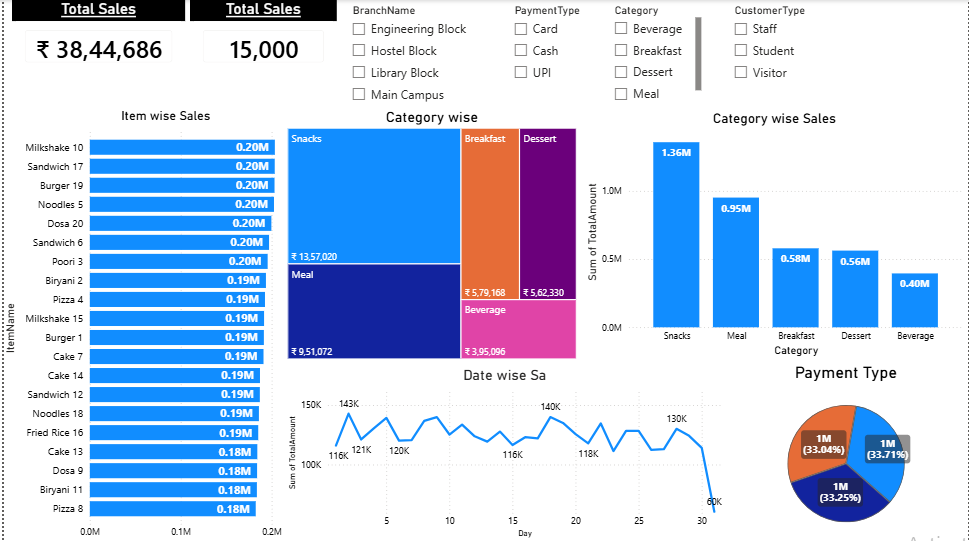

The dashboard page shown, as its layout file describes it:
{"tool":"powerbi","page":{"name":"Page 1","canvas":[1280,720],"ordinal":0},"visuals":[{"type":"cardVisual","title":"Total Sales","fields":{"Data":["Fact_Sales.Total Sale"]},"box":[10,0,230,100],"z":0},{"type":"cardVisual","title":"Total Sales","fields":{"Data":["Fact_Sales.Total Orders"]},"box":[246.7,0,195,100],"z":1000},{"type":"clusteredColumnChart","title":"Category wise Sales","fields":{"Category":["Dim_Items.Category"],"Y":["Sum(Fact_Sales.TotalAmount)"]},"box":[768.3,146.7,511.7,331.7],"z":2000},{"type":"clusteredBarChart","title":"Item wise Sales","fields":{"Category":["Dim_Items.ItemName"],"Y":["Sum(Fact_Sales.TotalAmount)"]},"box":[0,143.3,430,576.7],"z":3000},{"type":"lineChart","title":"Date wise Sa","fields":{"Y":["Sum(Fact_Sales.TotalAmount)"],"Category":["Dim_Date.Date.Variation.Date Hierarchy.Day"]},"box":[371.7,486.7,586.7,233.3],"z":4000},{"type":"pieChart","title":"Payment Type","fields":{"Category":["Dim_Payment.PaymentType"],"Y":["Sum(Fact_Sales.TotalAmount)"]},"box":[958.3,481.7,321.7,238.3],"z":4001},{"type":"treemap","title":"Category wise","fields":{"Group":["Dim_Items.Category"],"Values":["Sum(Fact_Sales.TotalAmount)"]},"box":[371.7,143.3,393.3,338.3],"z":4002},{"type":"slicer","fields":{"Values":["Dim_Branch.BranchName"]},"box":[450,0,190,146.7],"z":4003},{"type":"slicer","fields":{"Values":["Dim_Payment.PaymentType"]},"box":[665,0,133.3,118.3],"z":4004},{"type":"slicer","fields":{"Values":["Dim_Items.Category"]},"box":[798.3,0,133.3,146.7],"z":4005},{"type":"slicer","fields":{"Values":["Fact_Sales.CustomerType"]},"box":[958.3,0,145,146.7],"z":4006}]}

Visuals, with their boxes in screenshot pixels (x1, y1, x2, y2), scaled from the page's 1280x720 canvas onto the 969x541 screenshot:
"Total Sales" cardVisual: {"x1": 8, "y1": 0, "x2": 182, "y2": 75}
"Total Sales" cardVisual: {"x1": 187, "y1": 0, "x2": 334, "y2": 75}
"Category wise Sales" clusteredColumnChart: {"x1": 582, "y1": 110, "x2": 968, "y2": 359}
"Item wise Sales" clusteredBarChart: {"x1": 0, "y1": 108, "x2": 326, "y2": 540}
"Date wise Sa" lineChart: {"x1": 281, "y1": 366, "x2": 726, "y2": 540}
"Payment Type" pieChart: {"x1": 725, "y1": 362, "x2": 968, "y2": 540}
"Category wise" treemap: {"x1": 281, "y1": 108, "x2": 579, "y2": 362}
slicer - Dim_Branch.BranchName: {"x1": 341, "y1": 0, "x2": 484, "y2": 110}
slicer - Dim_Payment.PaymentType: {"x1": 503, "y1": 0, "x2": 604, "y2": 89}
slicer - Dim_Items.Category: {"x1": 604, "y1": 0, "x2": 705, "y2": 110}
slicer - Fact_Sales.CustomerType: {"x1": 725, "y1": 0, "x2": 835, "y2": 110}
